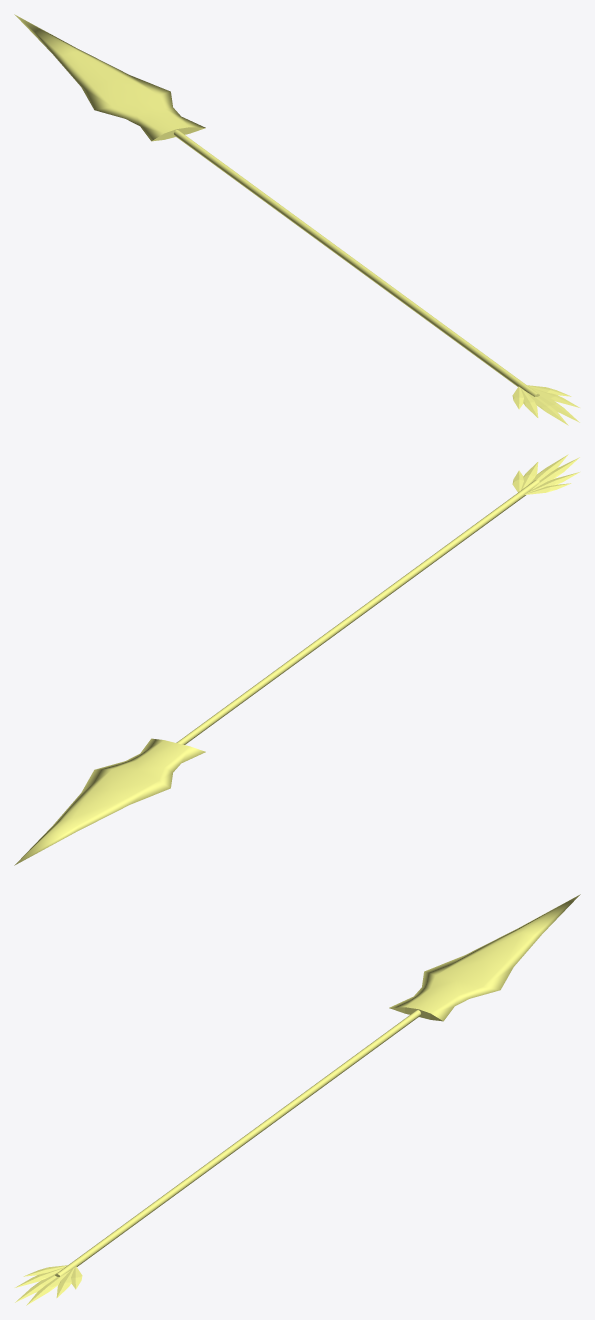
Rendered from arrow.FBX.
3 renders of one model, top to bottom at view 1: azimuth 30°, elevation 25°; view 2: azimuth 150°, elevation 25°; view 3: azimuth 330°, elevation 25°, orthographic.
Visible parts, largest first — view 1: Tube001, Cylinder001, Object001; view 2: Tube001, Cylinder001, Object001; view 3: Tube001, Cylinder001, Object001.
Part boxes in pixels (x1,y1,x2,y2): Tube001: (14, 14, 205, 141); Cylinder001: (174, 130, 520, 385); Object001: (512, 380, 579, 425); Tube001: (14, 738, 205, 865); Cylinder001: (176, 493, 521, 744); Object001: (512, 454, 579, 498); Tube001: (389, 894, 580, 1021); Cylinder001: (74, 1010, 420, 1265); Object001: (15, 1260, 82, 1305).
Bounding box in the file's own units: 50.62 × 5.95 × 642.
